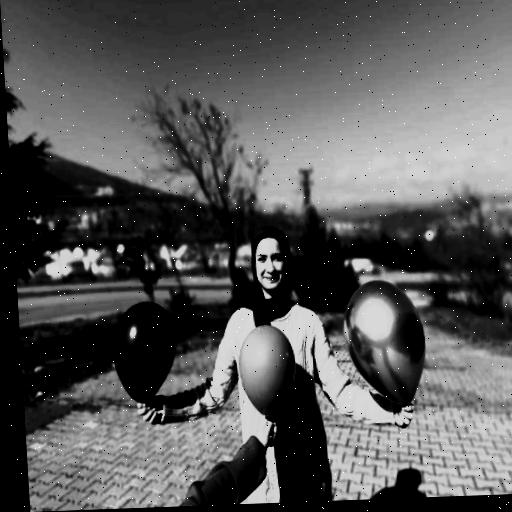balloon: (341, 279, 425, 402), (108, 300, 186, 401), (236, 316, 295, 413)
